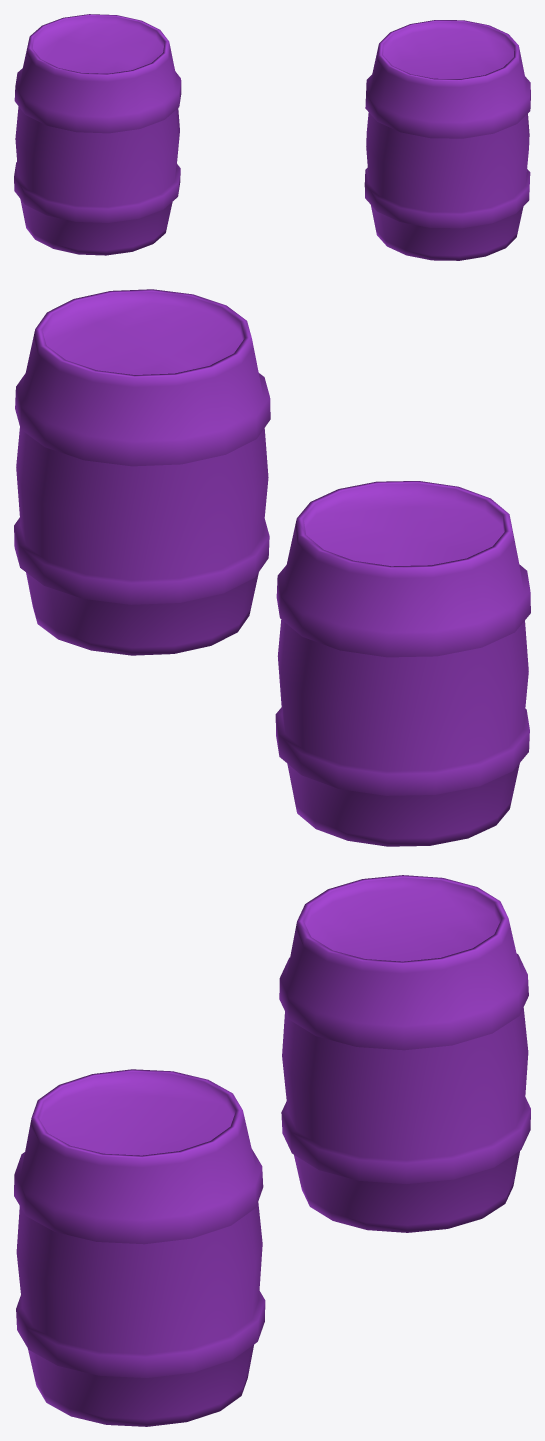
Rendered from Barrel_Break_03C_Lod0.fbx.
The picture shows the model from 3 angles, top to bottom: view 1: azimuth 30°, elevation 25°; view 2: azimuth 150°, elevation 25°; view 3: azimuth 270°, elevation 25°; orthographic projection. The views are drawn at different scales.
Visible parts, largest first — view 1: Barrel_Break_03C_Lod0; view 2: Barrel_Break_03C_Lod0; view 3: Barrel_Break_03C_Lod0.
Part boxes in pixels (left/top/right/bottom): Barrel_Break_03C_Lod0: left=14, top=14, right=530, bottom=260; Barrel_Break_03C_Lod0: left=14, top=289, right=530, bottom=846; Barrel_Break_03C_Lod0: left=14, top=875, right=530, bottom=1426.
Size of the model in its own units: 188 by 82.39 by 139.
